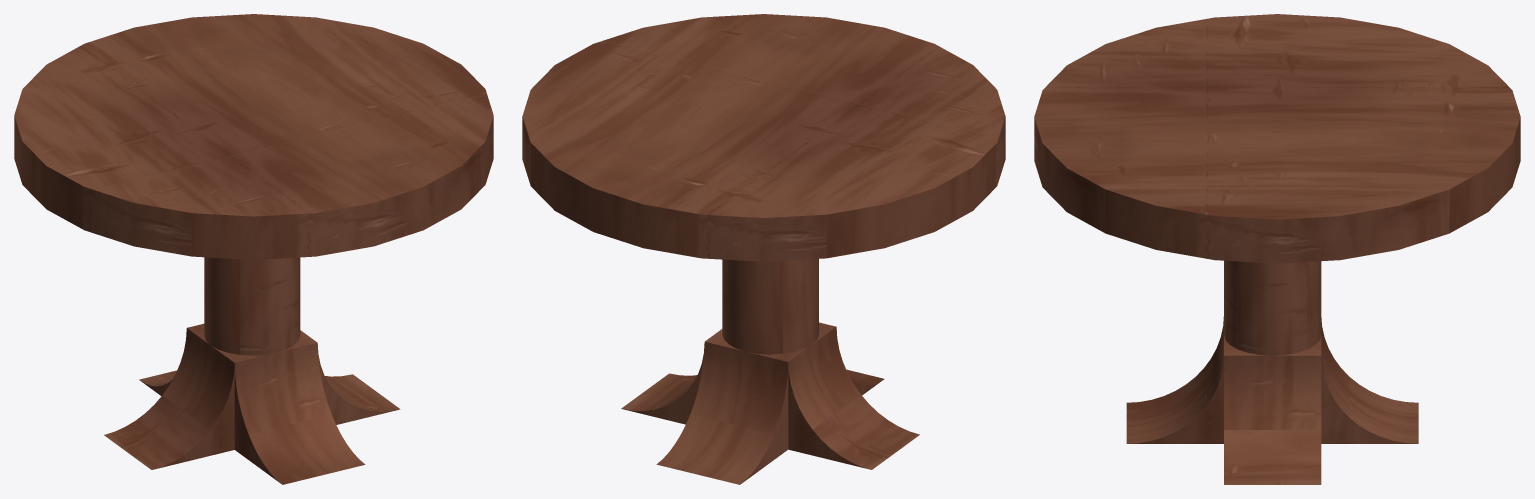
File: WoodCircleTable.fbx
3 views of the same model, side by side, from view 1: azimuth 30°, elevation 25°; view 2: azimuth 150°, elevation 25°; view 3: azimuth 270°, elevation 25° (orthographic).
Visible parts, largest first — view 1: cylinder (×2), halfPipe_half (×3), block; view 2: cylinder (×2), halfPipe_half (×3), block; view 3: cylinder (×2), halfPipe_half (×3), block.
Boxes of the visible parts, x1=… form: cylinder (×2): x1=14, y1=14, x2=493, y2=355; halfPipe_half (×3): x1=104, y1=328, x2=400, y2=484; block: x1=187, y1=323, x2=317, y2=362; cylinder (×2): x1=522, y1=14, x2=1005, y2=354; halfPipe_half (×3): x1=621, y1=327, x2=919, y2=484; block: x1=705, y1=322, x2=835, y2=361; cylinder (×2): x1=1034, y1=14, x2=1520, y2=355; halfPipe_half (×3): x1=1126, y1=317, x2=1418, y2=484; block: x1=1224, y1=336, x2=1321, y2=355.
Size of the model in its own units: 7 by 4.9 by 7.
Materials: 1 (1 with a texture image).
